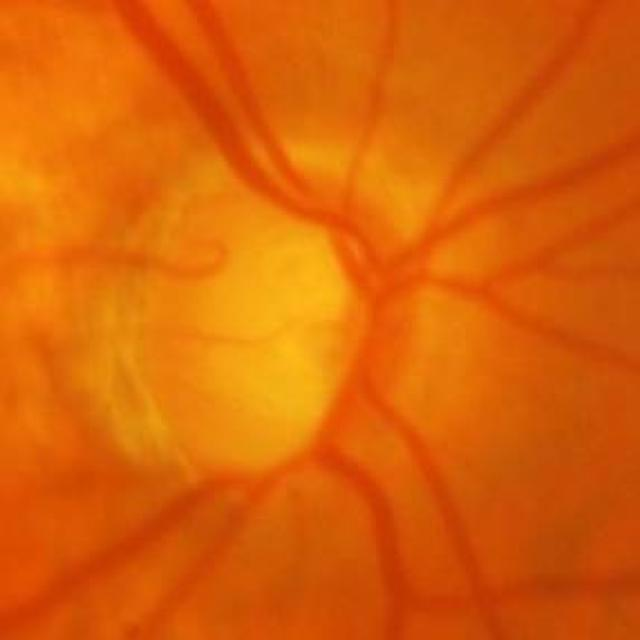OC: (196, 236, 362, 427)
OD: (107, 140, 434, 496)
